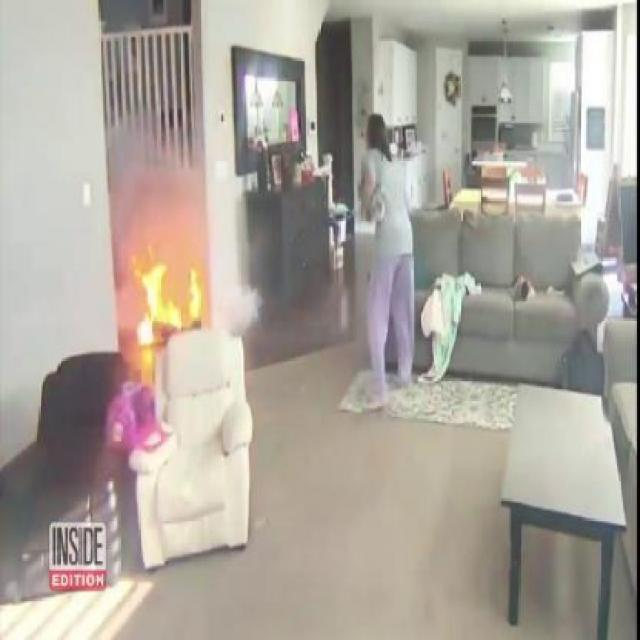fire: (138, 260, 208, 336)
smoke: (122, 150, 241, 275)
